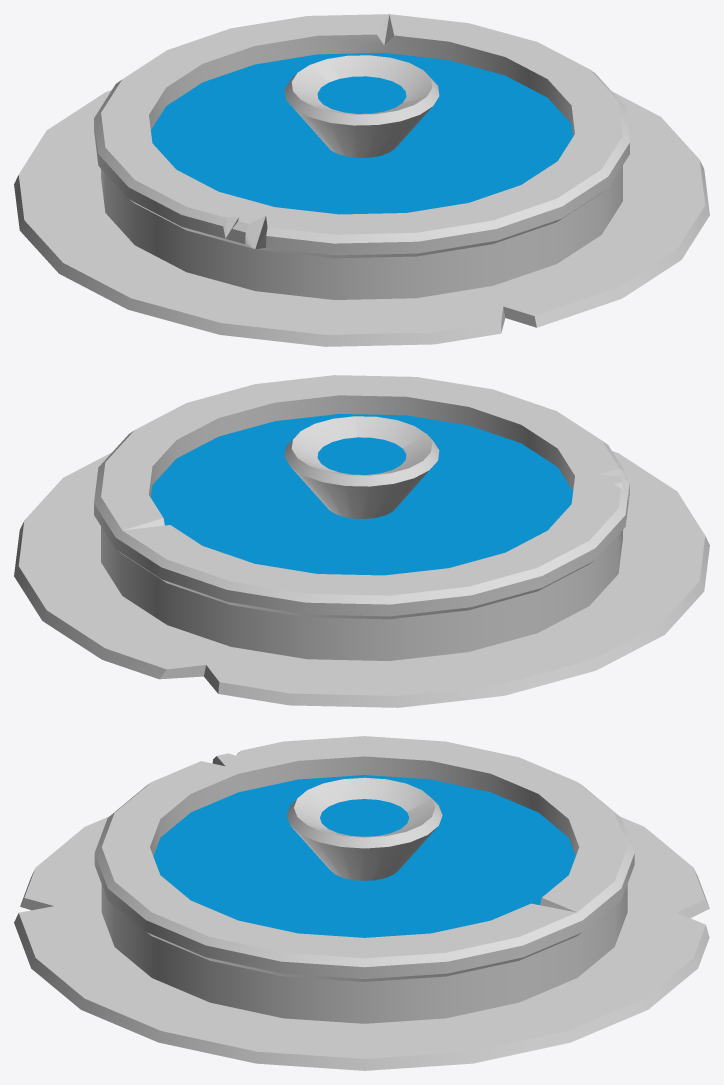
The model's file is fountain_small.fbx.
The picture shows the model from 3 angles, top to bottom: view 1: azimuth 30°, elevation 25°; view 2: azimuth 150°, elevation 25°; view 3: azimuth 270°, elevation 25°; orthographic projection.
Parts seen in each view (by area): view 1: fountain_small; view 2: fountain_small; view 3: fountain_small.
Part boxes in pixels (<box>): fountain_small: <box>14,14,709,346</box>; fountain_small: <box>14,375,709,707</box>; fountain_small: <box>14,736,709,1070</box>.
Size of the model in its own units: 677 by 123 by 672.
